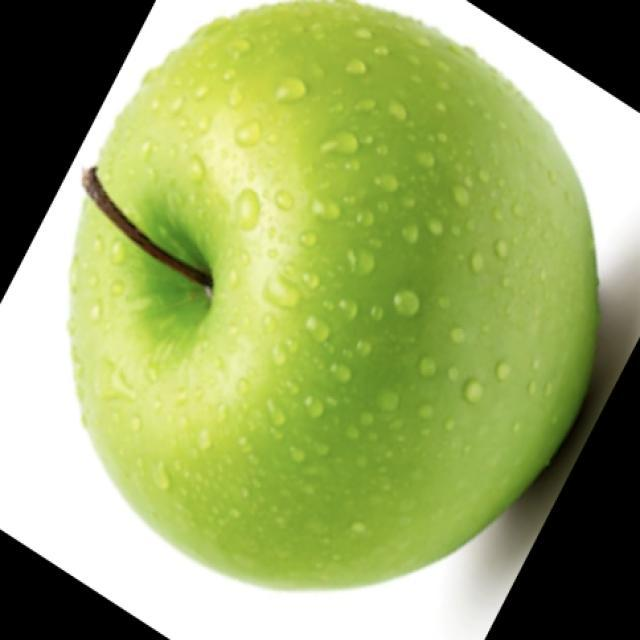Apple: (66, 0, 601, 592)
